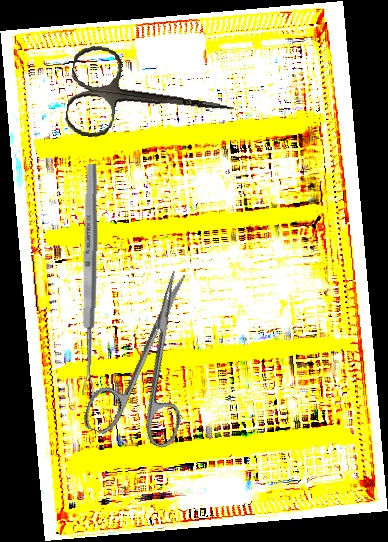Iris Scissors: (80, 258, 227, 457), (63, 41, 241, 157)
Surgical Spoon: (79, 163, 100, 396)
